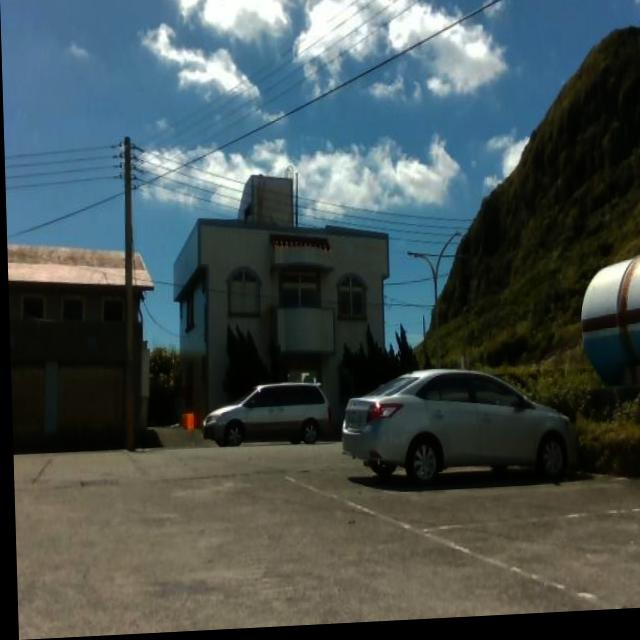pollute: (175, 414, 194, 435)
